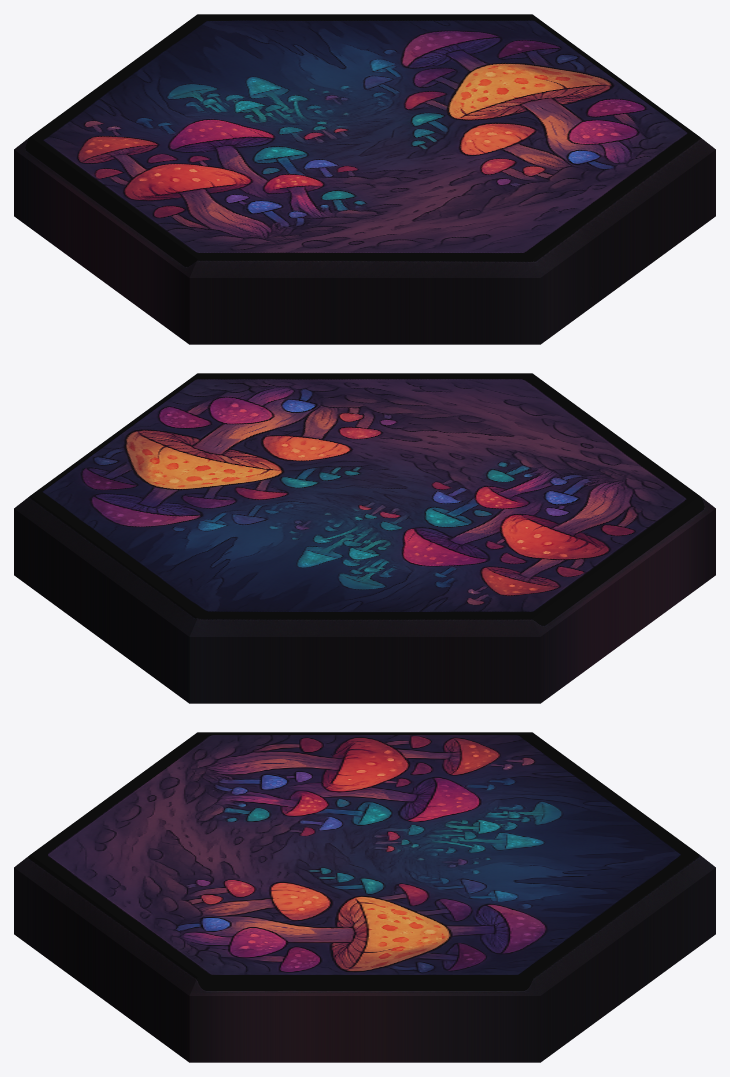
File: fungal_forest.glb
3 renders of one model, top to bottom at view 1: azimuth 30°, elevation 25°; view 2: azimuth 150°, elevation 25°; view 3: azimuth 270°, elevation 25°, orthographic.
Parts seen in each view (by area): view 1: Circle; view 2: Circle; view 3: Circle.
Part boxes in pixels (x1=…): Circle: x1=14, y1=14, x2=715, y2=344; Circle: x1=14, y1=373, x2=715, y2=703; Circle: x1=14, y1=732, x2=715, y2=1062.
Size of the model in its own units: 1.73 by 0.25 by 2.
Materials: 1 (1 with a texture image).
